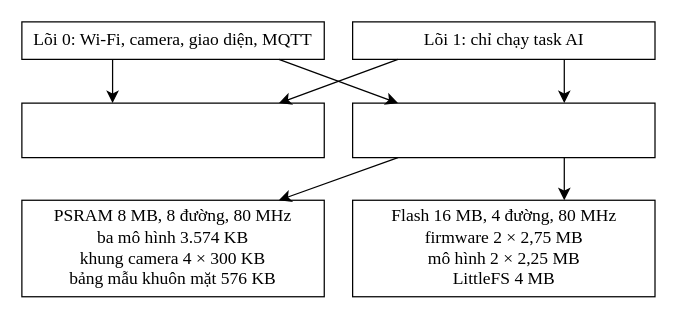
This 678x319 diagram has some shape labels left out. The shapes that lost their labels are listed below. From the top down, each one's centre as x and y in pixels, then its label:
the point at 172,130: SRAM 512 KB ngăn xếp task, Wi-Fi, đệm DMA
the point at 503,130: Bộ đệm dữ liệu 64 KB, dòng 64 B chung cho flash và PSRAM
